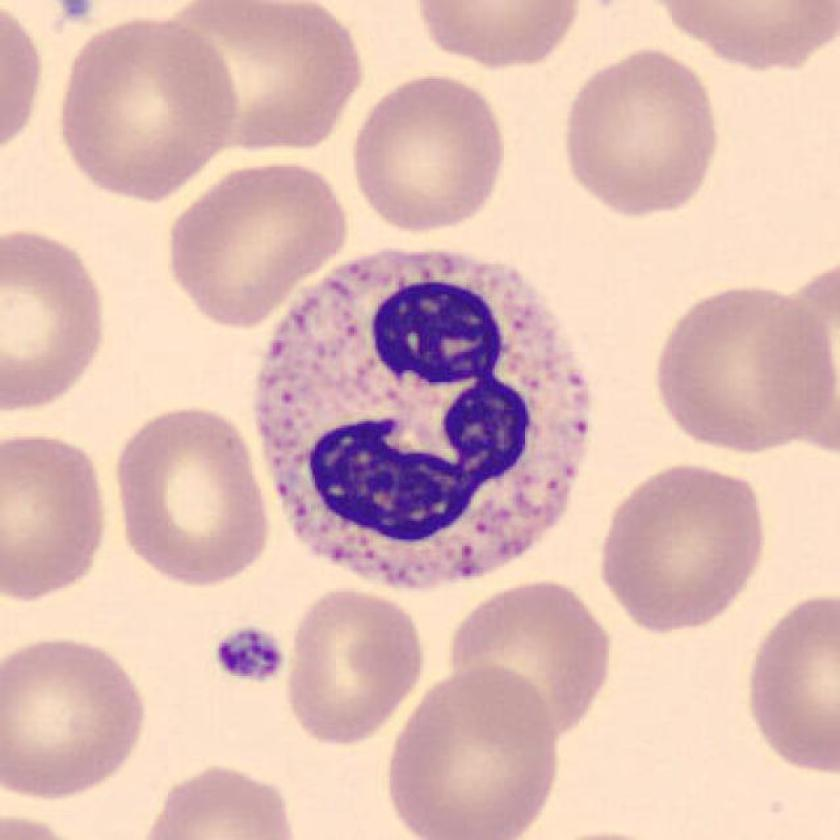neutrophil: (250, 252, 588, 586)
